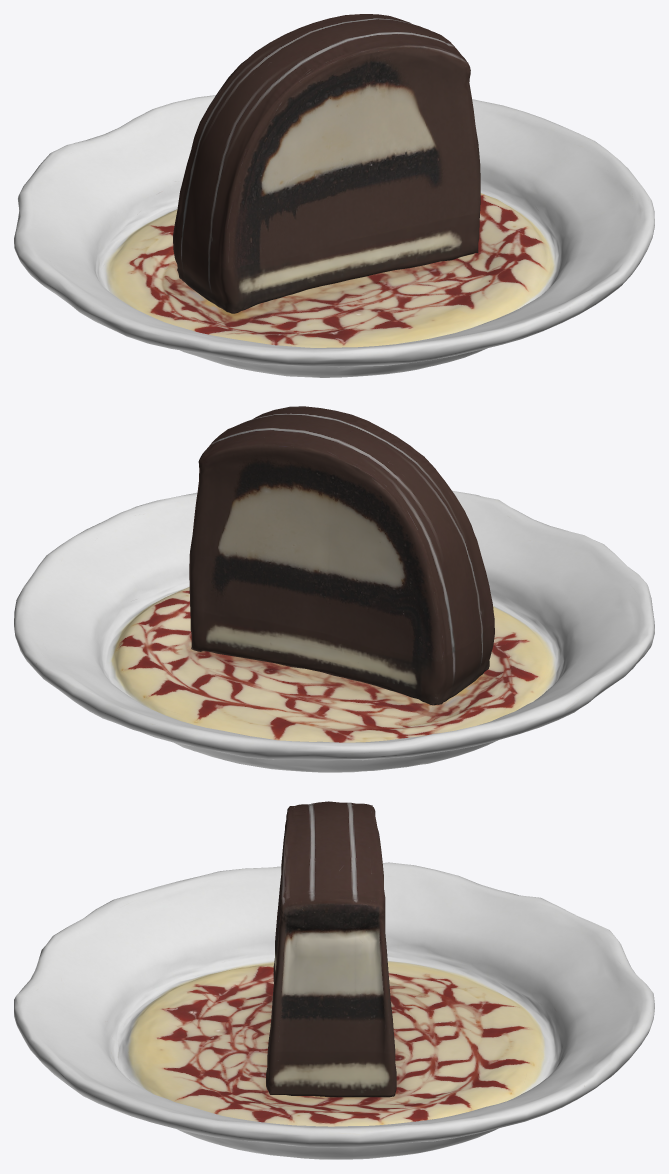
Rendered from pastel_tartufo.fbx.
3 renders of one model, top to bottom at view 1: azimuth 30°, elevation 25°; view 2: azimuth 150°, elevation 25°; view 3: azimuth 270°, elevation 25°, orthographic.
Parts seen in each view (by area): view 1: meshes[0]; view 2: meshes[0]; view 3: meshes[0].
Part boxes in pixels (bbox=[...]): meshes[0]: bbox=[14, 14, 654, 377]; meshes[0]: bbox=[14, 406, 654, 772]; meshes[0]: bbox=[14, 801, 654, 1159].
Bounding box in the file's own units: 99.8 × 43.95 × 99.8.
1 material, 1 textured.
